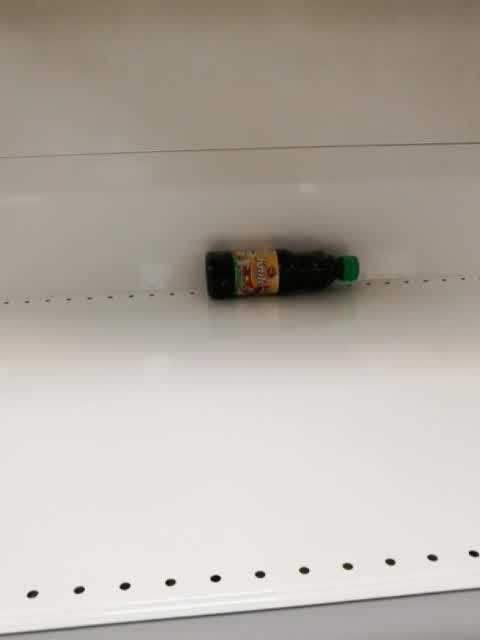cookingoil: (201, 246, 361, 301)
